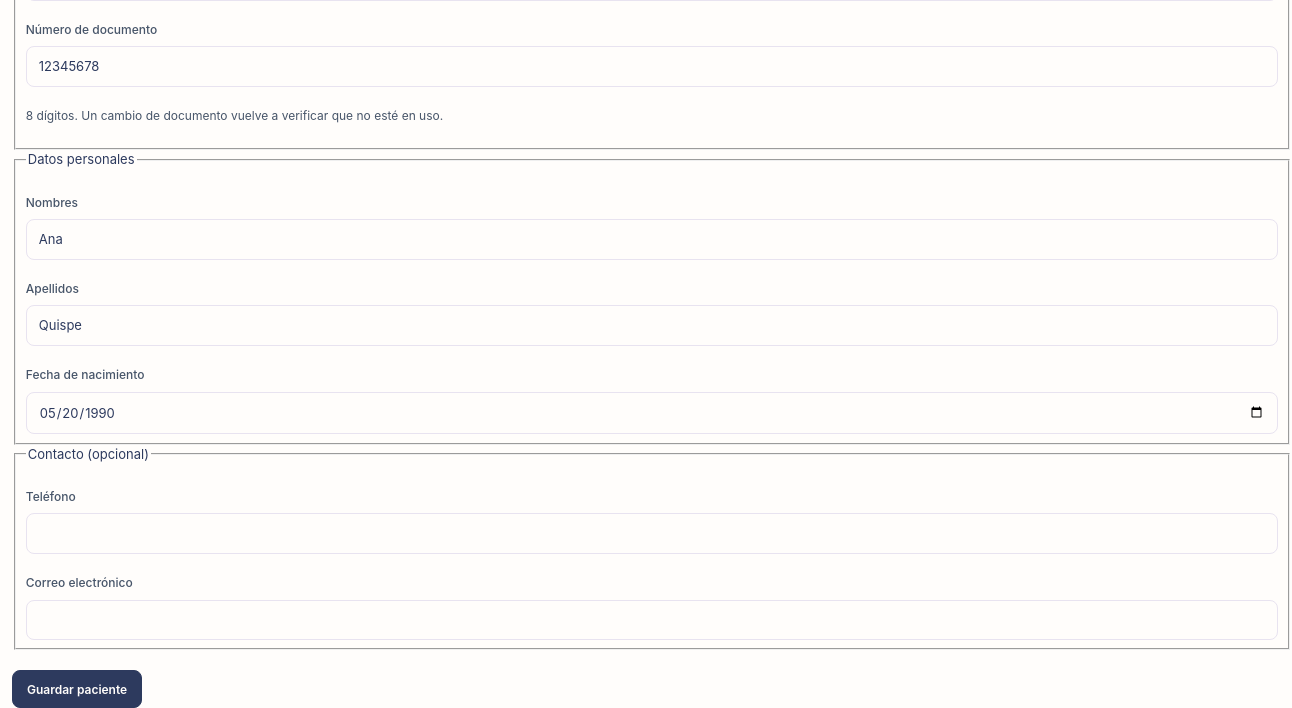
Test: Edición y búsqueda de pacientes › explica un documento duplicado
(page scrolled)
Click the button "Guardar paciente" at (77, 690), box left=12, top=670, right=142, bottom=707
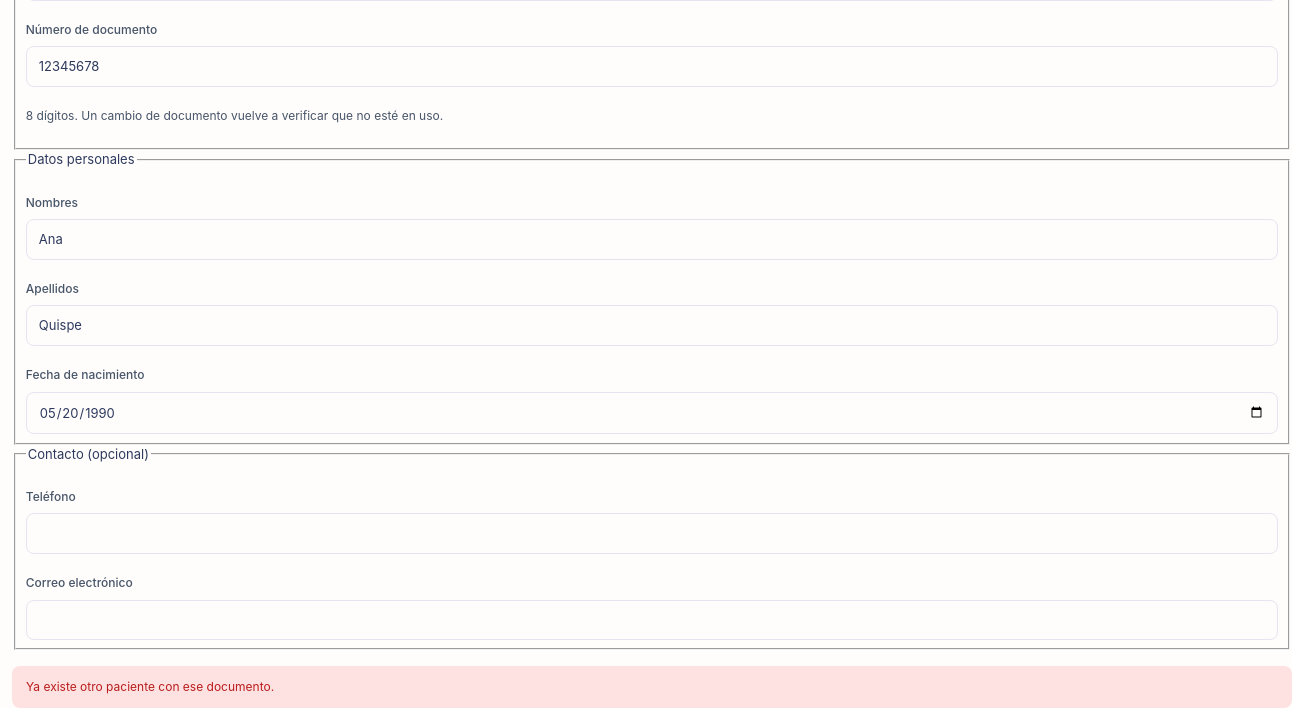
Now the message shows "Ya existe otro paciente", box left=26, top=680, right=274, bottom=694
